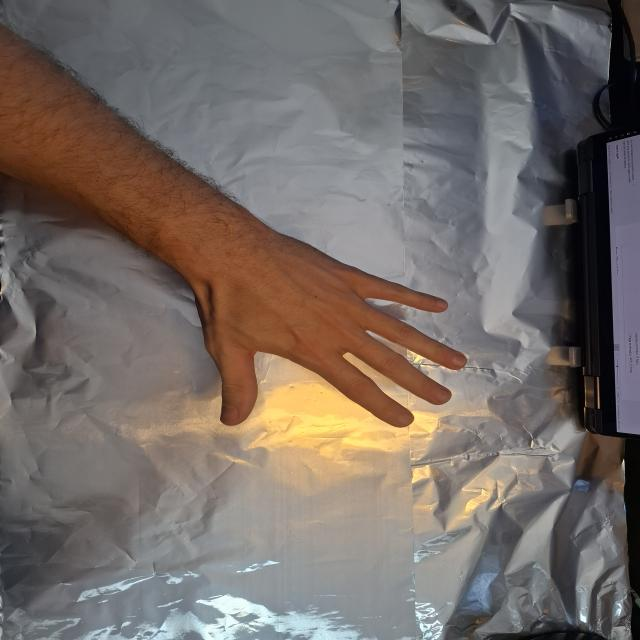glove_off: (184, 233, 470, 430)
